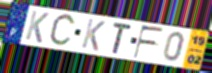0: (162, 30, 186, 64)
C: (47, 13, 78, 49)
F: (132, 25, 165, 60)
K: (23, 9, 51, 45), (80, 17, 107, 53)
T: (112, 21, 134, 56)
